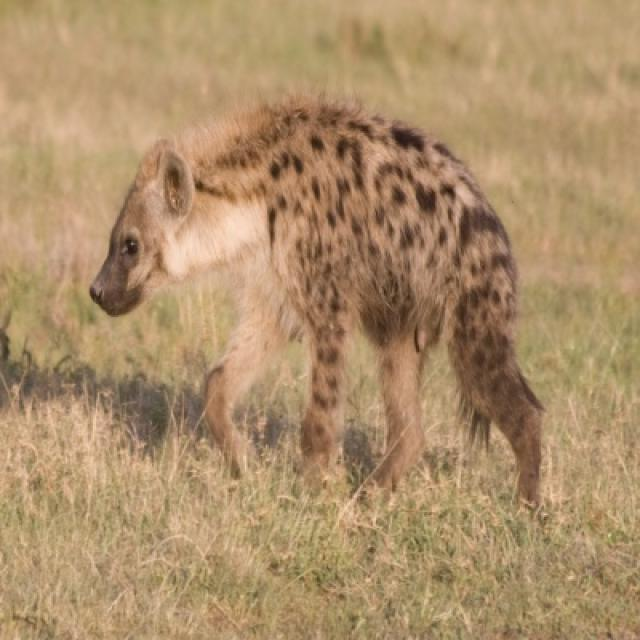hyena: (90, 94, 544, 509)
